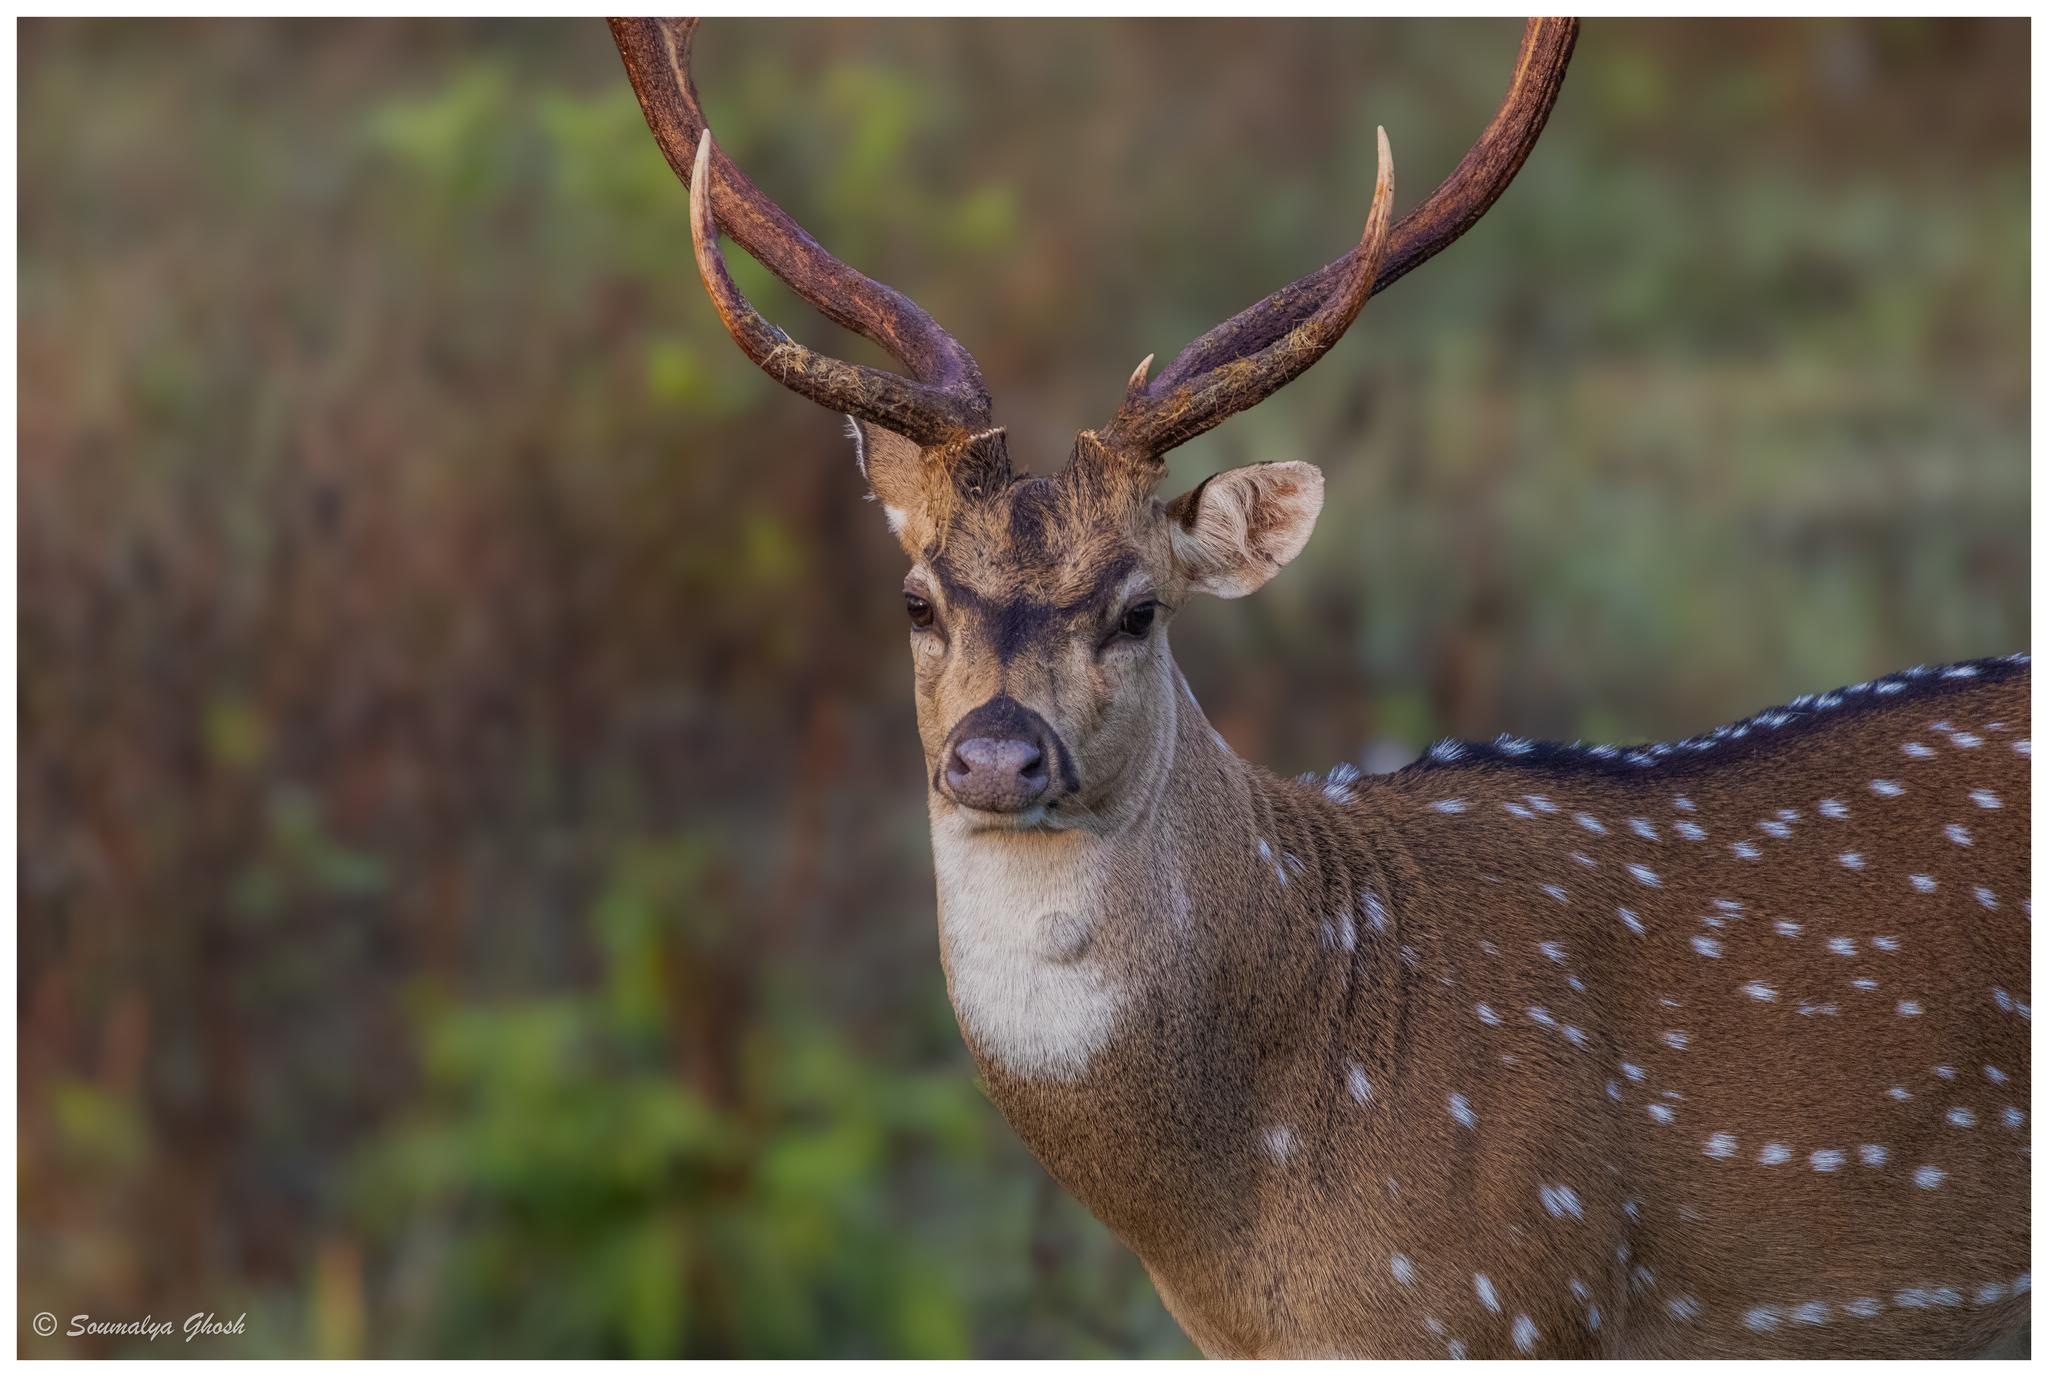Deer: (610, 18, 2030, 1359)
